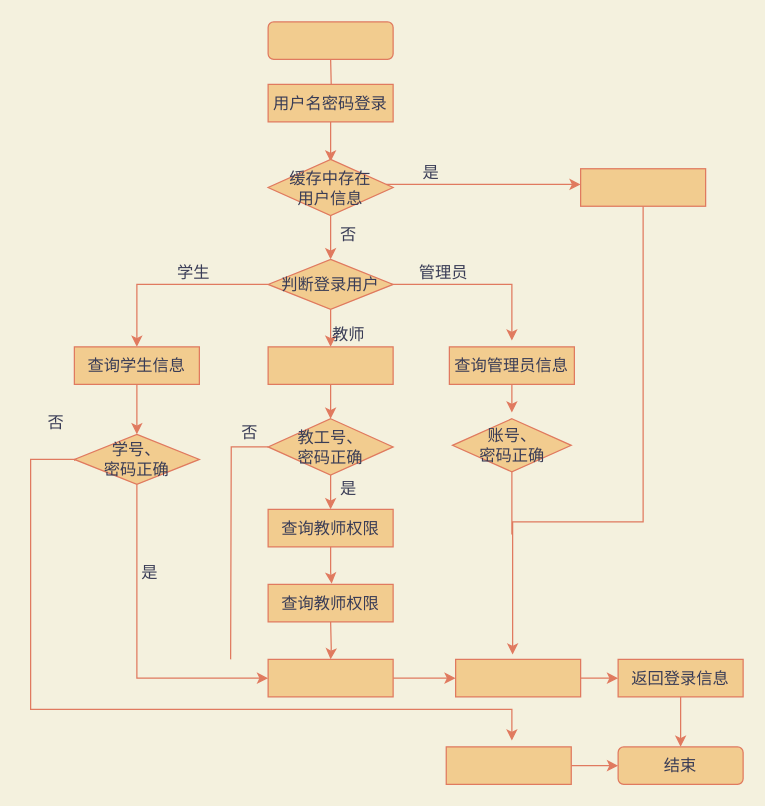
This 765x806 diagram has some shape labels left out. The box of each missing label's shape, as (x1, y1, x2, y2) in pixels:
取出用户信息: (579, 168, 706, 206)
开始: (267, 21, 393, 59)
查询教师信息: (267, 346, 393, 384)
生成token: (454, 658, 581, 697)
缓存用户信息: (267, 658, 393, 697)
返回错误信息: (445, 746, 571, 784)
